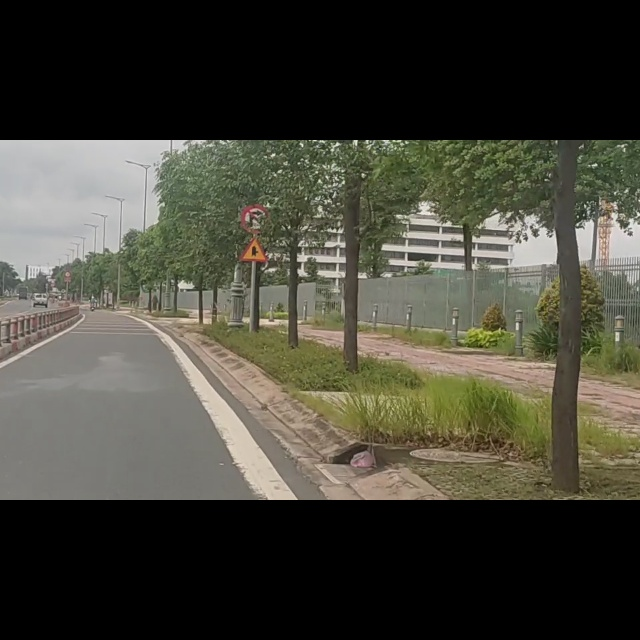bien_nguy_hiem: (239, 172, 269, 216)
